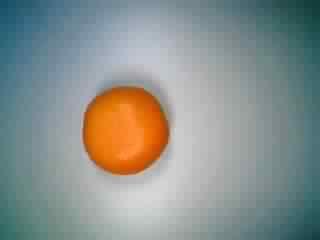orange: (77, 82, 173, 178)
